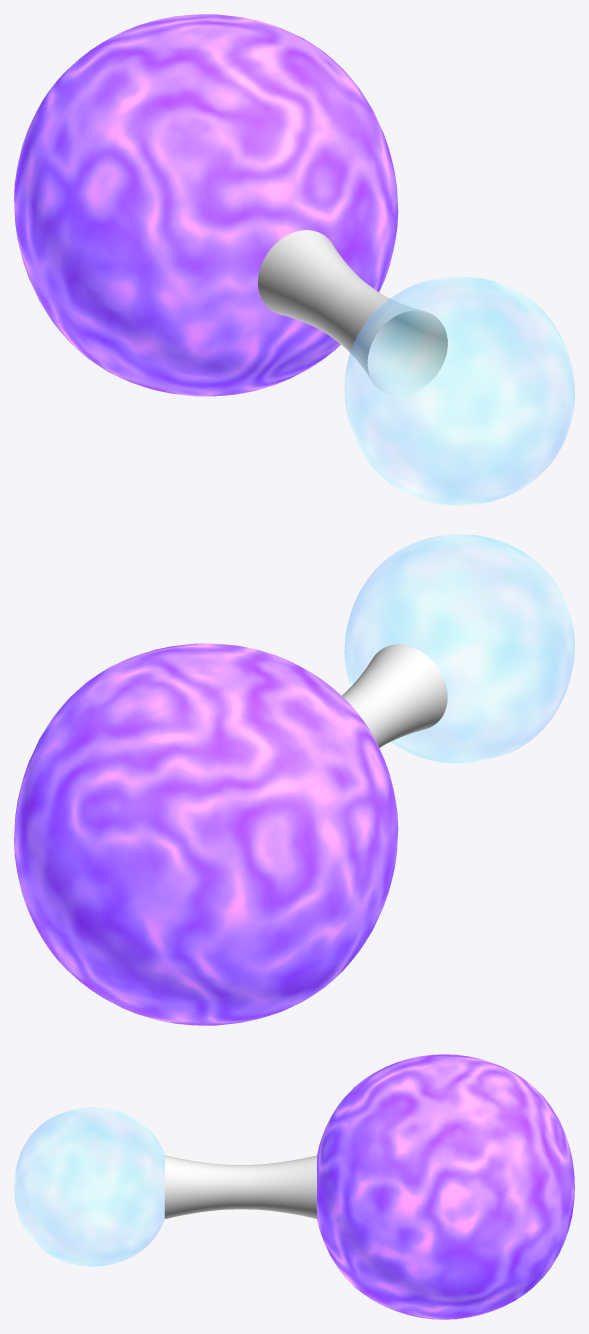
The picture shows the model from 3 angles, top to bottom: view 1: azimuth 30°, elevation 25°; view 2: azimuth 150°, elevation 25°; view 3: azimuth 270°, elevation 25°; orthographic projection. The views are drawn at different scales.
Parts seen in each view (by area): view 1: jednosytne_kyseliny; view 2: jednosytne_kyseliny; view 3: jednosytne_kyseliny.
Part boxes in pixels (x1,y1,x2,y2): jednosytne_kyseliny: [14, 14, 574, 505]; jednosytne_kyseliny: [14, 534, 574, 1025]; jednosytne_kyseliny: [14, 1054, 574, 1319].
Bounding box in the file's own units: 2.02 × 2.02 × 4.33.
3 materials, 2 textured.
